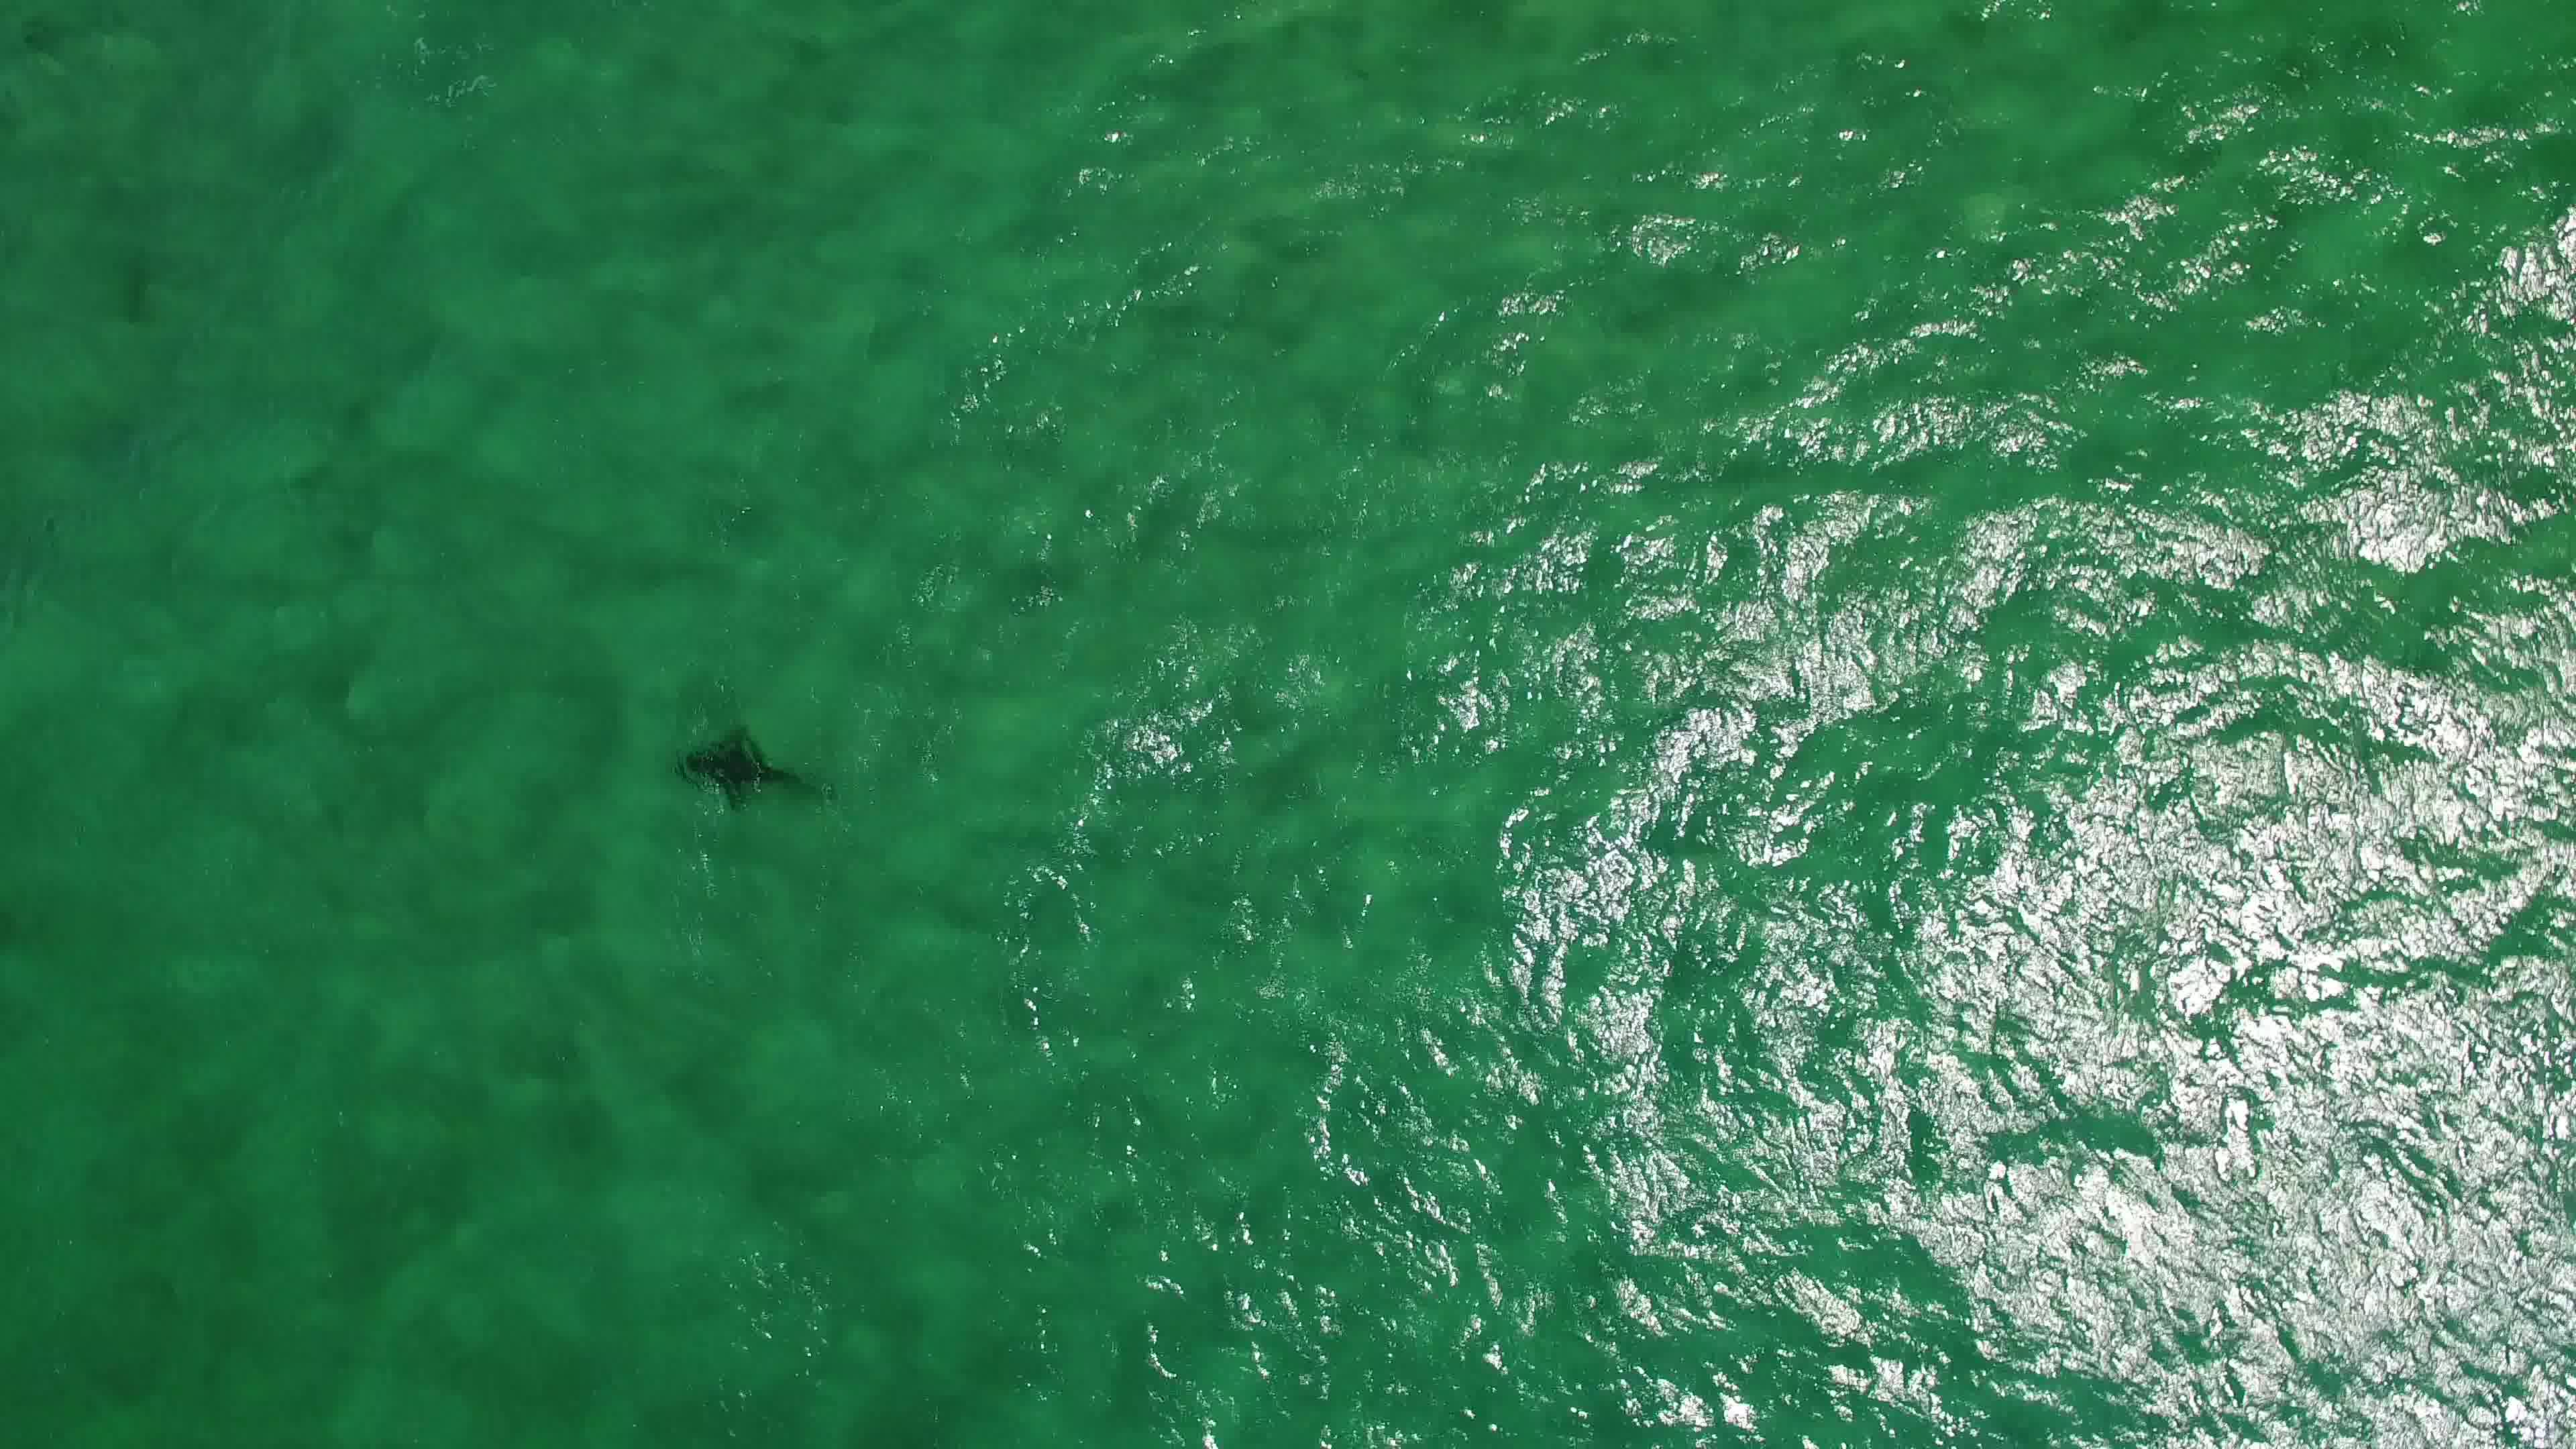shark: (669, 715, 842, 816)
